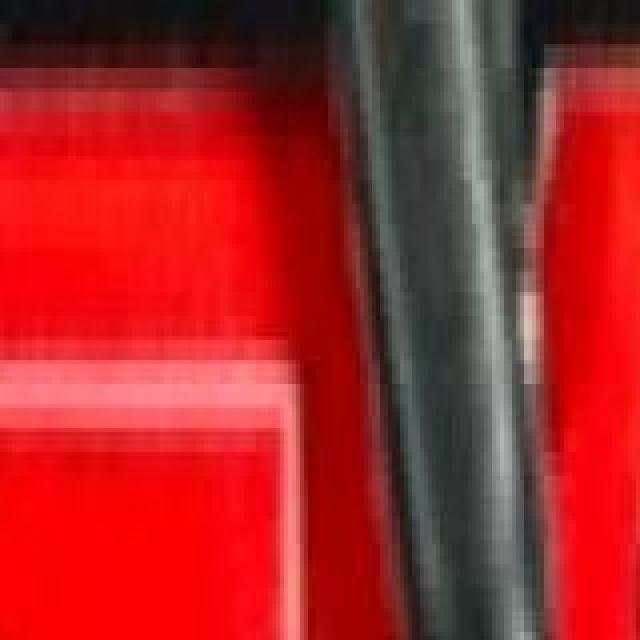connector: (592, 328, 640, 640)
